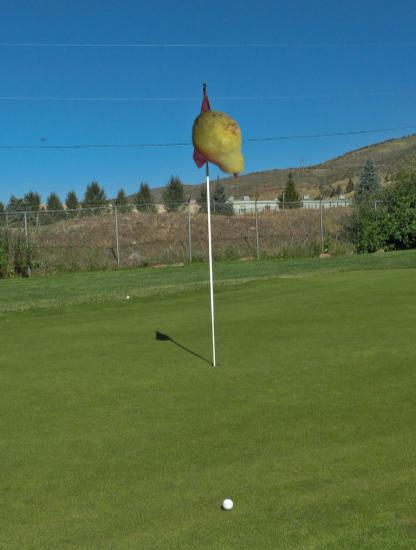Pear: (182, 108, 258, 184)
